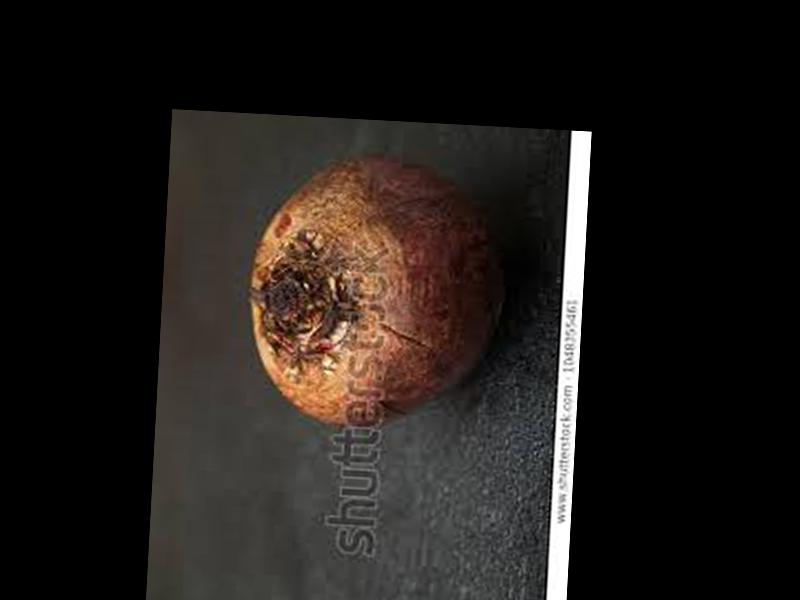Beet: (245, 144, 507, 431)
